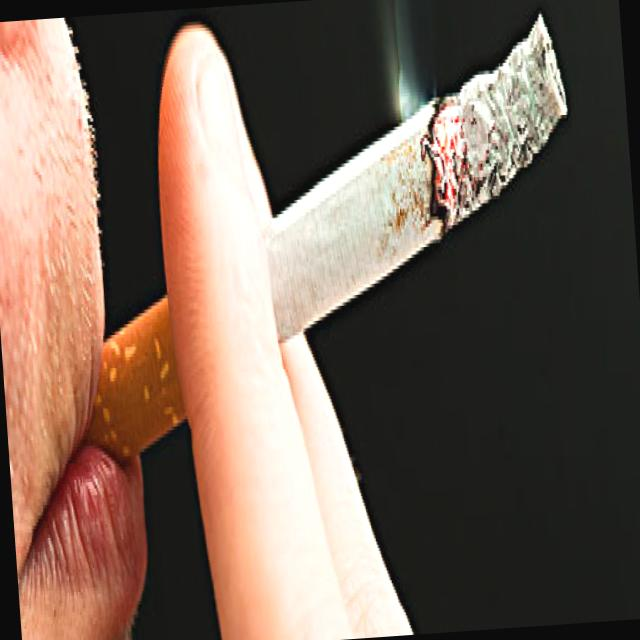smoke: (62, 0, 609, 525)
